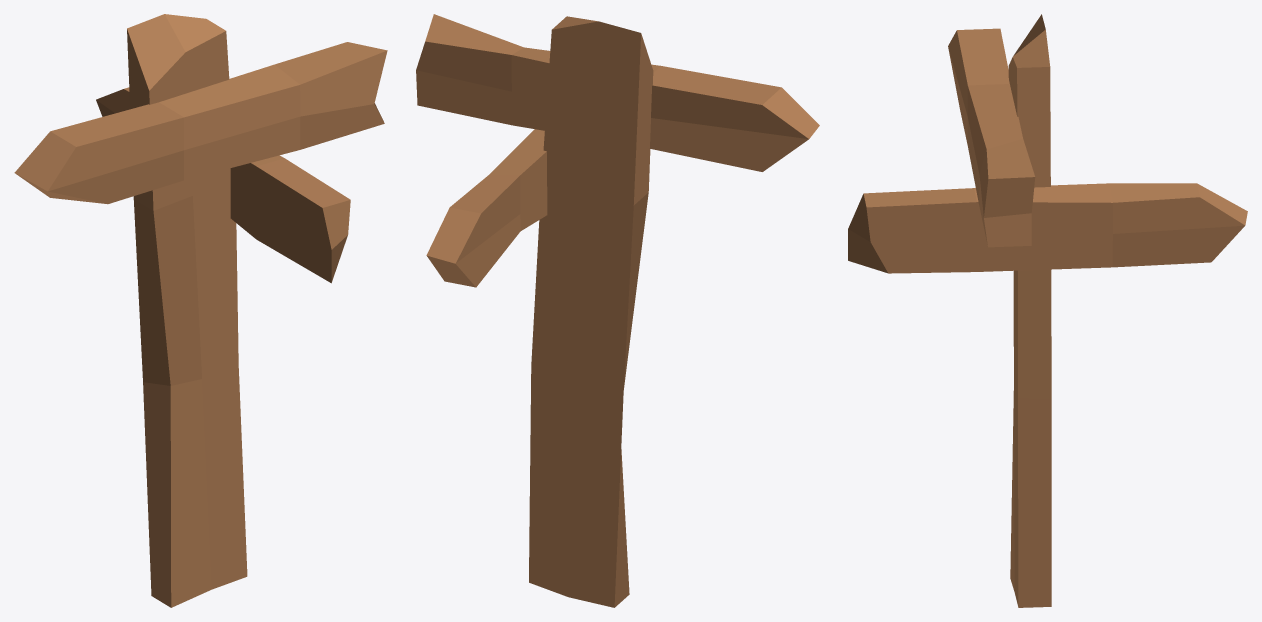
The model's file is Signpost.fbx.
3 renders of one model, left to right at view 1: azimuth 30°, elevation 25°; view 2: azimuth 150°, elevation 25°; view 3: azimuth 270°, elevation 25°, orthographic. The views are drawn at different scales.
Parts seen in each view (by area): view 1: Signpost; view 2: Signpost; view 3: Signpost.
Boxes of the visible parts, bbox=[...] form: Signpost: bbox=[14, 14, 387, 607]; Signpost: bbox=[416, 14, 819, 607]; Signpost: bbox=[848, 14, 1247, 607].
Size of the model in its own units: 151 by 147 by 225.
